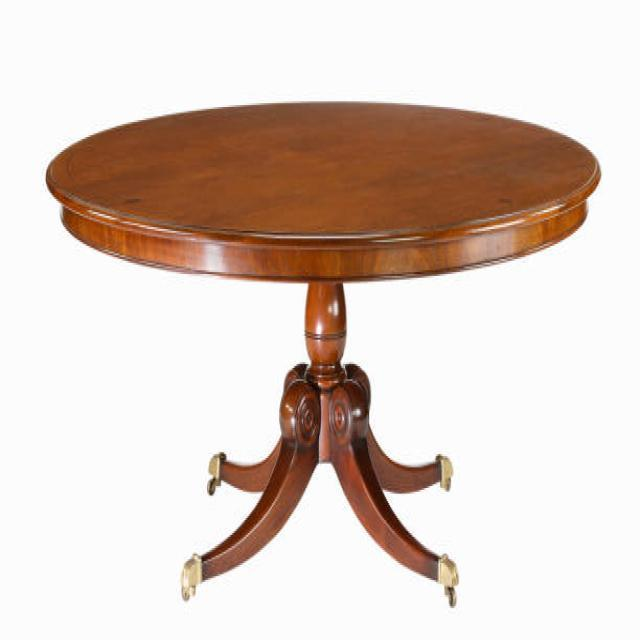table: (44, 98, 602, 606)
